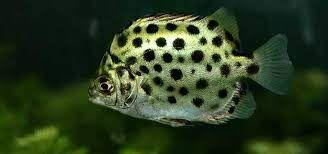Scat Fish: (88, 7, 296, 128)
